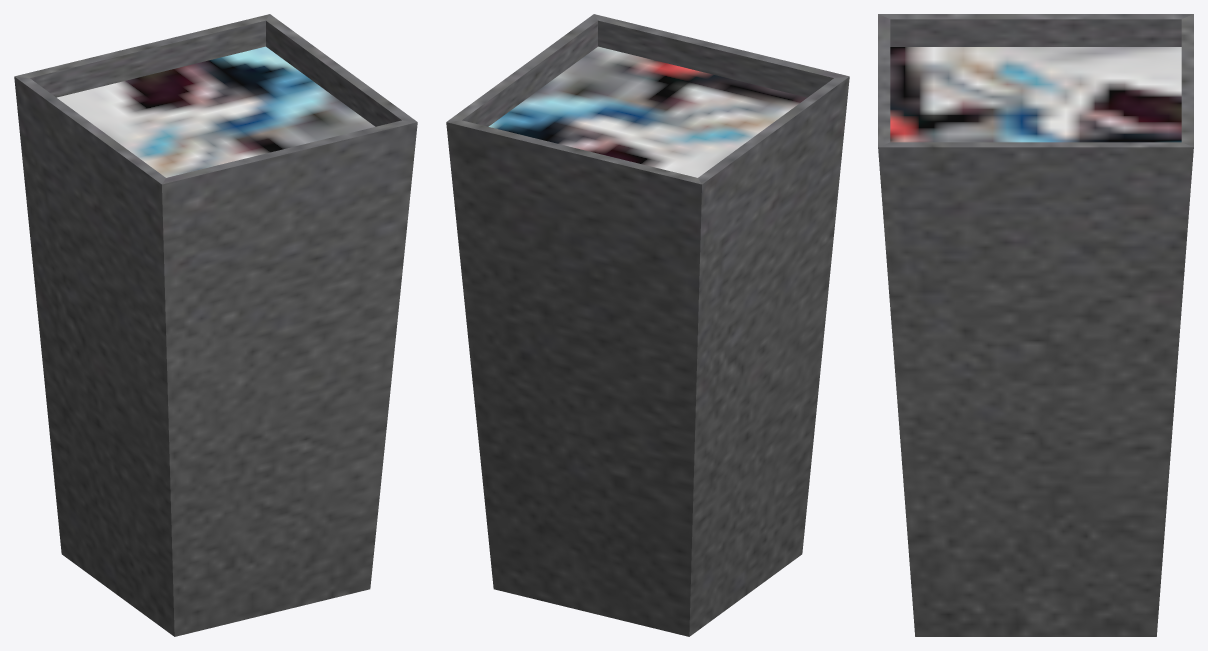
Rendered from trash_can001.fbx.
3 renders of one model, left to right at view 1: azimuth 30°, elevation 25°; view 2: azimuth 150°, elevation 25°; view 3: azimuth 270°, elevation 25°, orthographic. The views are drawn at different scales.
Parts seen in each view (by area): view 1: Cube, Cube.001; view 2: Cube, Cube.001; view 3: Cube, Cube.001.
Part boxes in pixels (box(x1,y1,x2,y2)): Cube: box(14, 14, 417, 636); Cube.001: box(57, 46, 375, 177); Cube: box(446, 14, 849, 636); Cube.001: box(488, 46, 806, 177); Cube: box(878, 14, 1193, 636); Cube.001: box(890, 47, 1181, 142).
Bounding box in the file's own units: 200 × 353 × 200.
Materials: 2 (2 with a texture image).
